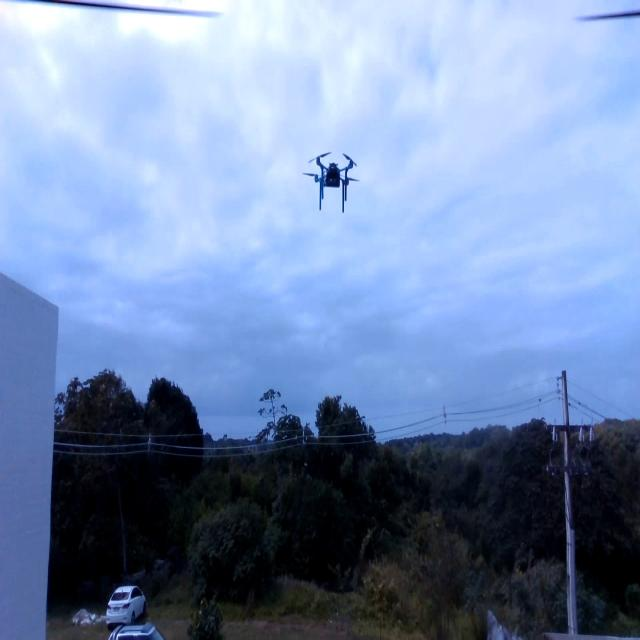-uav-: (301, 139, 365, 230)
